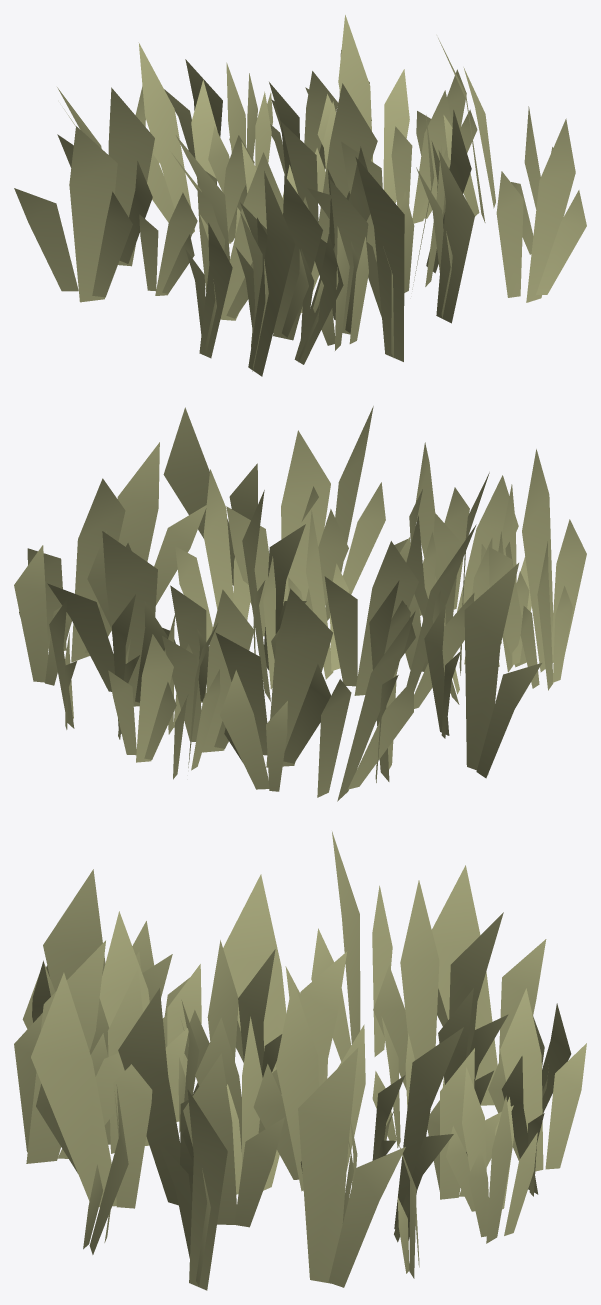
The model's file is Bush_Flat.fbx.
3 renders of one model, top to bottom at view 1: azimuth 30°, elevation 25°; view 2: azimuth 150°, elevation 25°; view 3: azimuth 270°, elevation 25°, orthographic. The views are drawn at different scales.
Parts seen in each view (by area): view 1: mff_grass_patch_1; view 2: mff_grass_patch_1; view 3: mff_grass_patch_1.
Boxes of the visible parts, <box> form: mff_grass_patch_1: <box>14,15,586,376</box>; mff_grass_patch_1: <box>14,406,586,801</box>; mff_grass_patch_1: <box>14,831,586,1290</box>.
Size of the model in its own units: 205 by 81.31 by 181.
